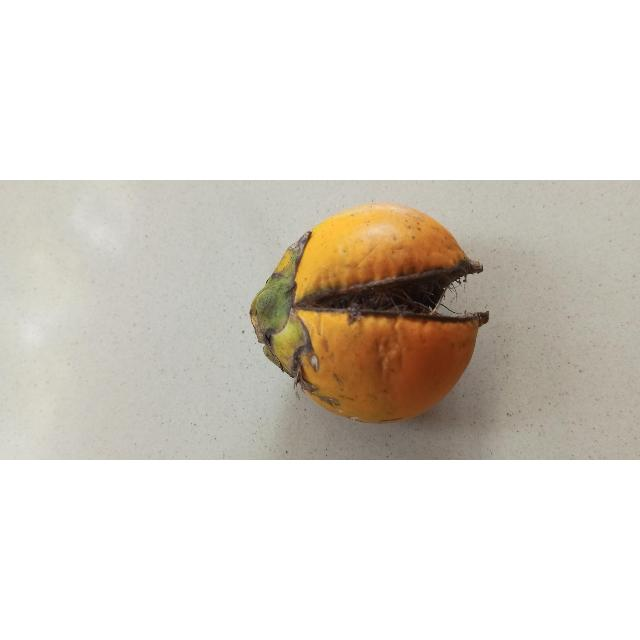damaged: (250, 203, 489, 424)
